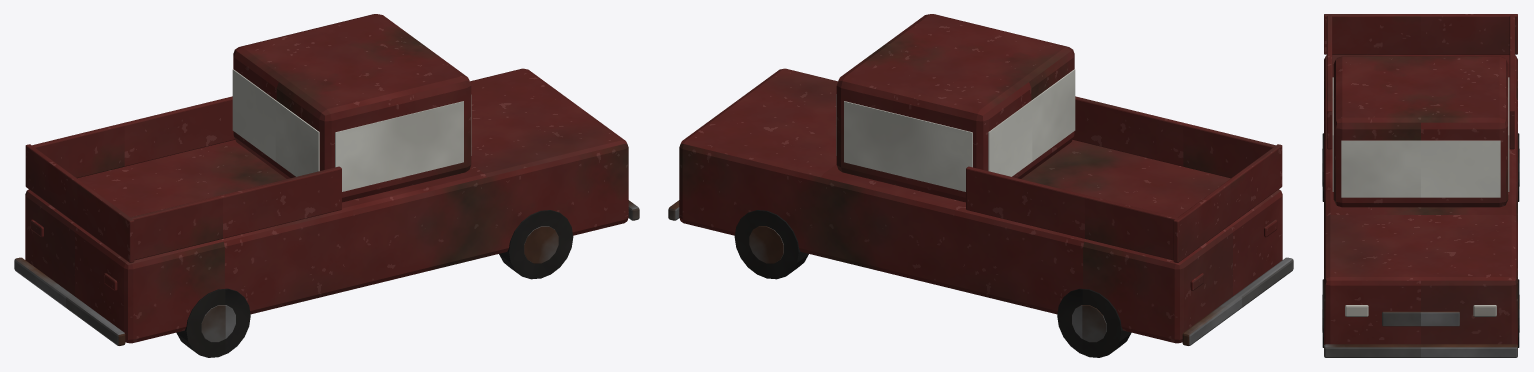
The model's file is CV05_pickup_truck.glb.
3 renders of one model, left to right at view 1: azimuth 30°, elevation 25°; view 2: azimuth 150°, elevation 25°; view 3: azimuth 270°, elevation 25°, orthographic. The views are drawn at different scales.
Visible parts, largest first — view 1: CV05_pickup_truck; view 2: CV05_pickup_truck; view 3: CV05_pickup_truck.
Part boxes in pixels (bbox=[...]): CV05_pickup_truck: bbox=[14, 14, 639, 357]; CV05_pickup_truck: bbox=[668, 14, 1293, 357]; CV05_pickup_truck: bbox=[1322, 14, 1519, 357].
Size of the model in its own units: 5 by 1.94 by 1.77.
6 materials, 6 textured.
